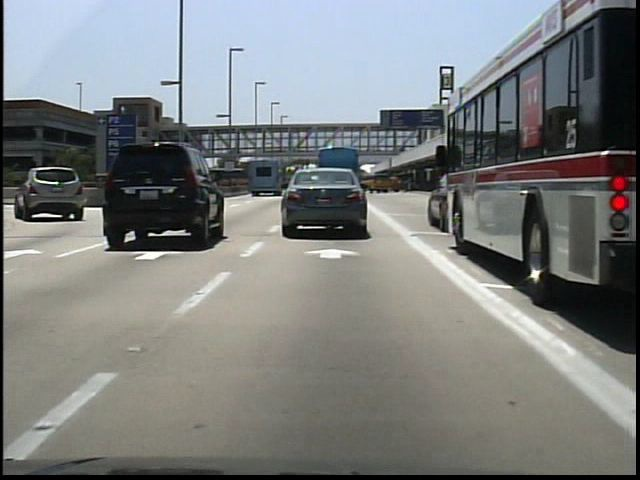person: (391, 136, 404, 158), (362, 136, 375, 156)
